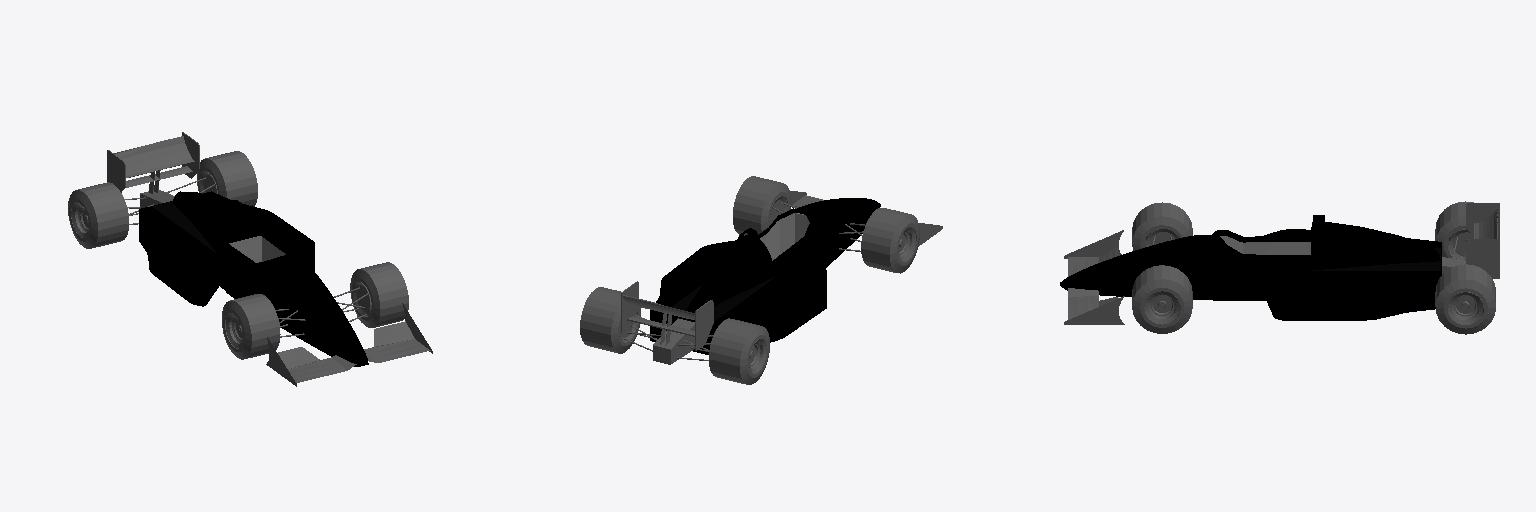
File: my_indy2.obj
3 views of the same model, side by side, from view 1: azimuth 30°, elevation 25°; view 2: azimuth 150°, elevation 25°; view 3: azimuth 270°, elevation 25° (orthographic).
Parts seen in each view (by area): view 1: Spoiler_RR, FrontLow, TireRR, FrontHigh, TireFR, TireFL, Air_Entrnc, TireRL, SpoilFR, SpoilFL, RadRgHole, RadRgTop1 (+5 smaller); view 2: TireRR, Air_Entrnc, TireFR, TireRL, TireFL, Spoiler_RR, FrontLow, RadRgTop1, FrontHigh, Internal1, RadRgBtm1, RadLfTop1 (+7 smaller); view 3: FrontLow, Air_Entrnc, TireRL, TireFL, FrontHigh, RadLfBtm1, Spoiler_RR, RadLfBtm2, TireFR, SpoilFL, RadLfHole, TireRR (+6 smaller).
Boxes of the visible parts, x1,y1,x2,y2 form: Spoiler_RR: [107, 132, 199, 193]; FrontLow: [216, 246, 368, 366]; TireRR: [68, 182, 128, 248]; FrontHigh: [267, 260, 365, 357]; TireFR: [222, 294, 280, 359]; TireFL: [350, 262, 408, 327]; Air_Entrnc: [173, 191, 260, 251]; TireRL: [197, 151, 257, 206]; SpoilFR: [266, 337, 356, 386]; SpoilFL: [364, 303, 432, 362]; RadRgHole: [188, 261, 254, 306]; RadRgTop1: [152, 234, 225, 269]; TireRR: [709, 318, 769, 384]; Air_Entrnc: [687, 235, 774, 312]; TireFR: [861, 208, 919, 273]; TireRL: [580, 287, 640, 353]; TireFL: [733, 176, 790, 235]; Spoiler_RR: [621, 281, 713, 350]; FrontLow: [774, 203, 880, 276]; RadRgTop1: [749, 270, 823, 305]; FrontHigh: [781, 198, 877, 226]; Internal1: [760, 213, 809, 260]; RadRgBtm1: [785, 280, 823, 336]; RadLfTop1: [664, 249, 723, 284]; FrontLow: [1060, 235, 1312, 300]; Air_Entrnc: [1311, 222, 1440, 269]; TireRL: [1435, 264, 1495, 334]; TireFL: [1132, 265, 1192, 333]; FrontHigh: [1066, 235, 1223, 280]; RadLfBtm1: [1292, 289, 1366, 320]; Spoiler_RR: [1466, 203, 1499, 278]; RadLfBtm2: [1367, 278, 1438, 319]; TireFR: [1132, 202, 1192, 250]; SpoilFL: [1064, 288, 1124, 324]; RadLfHole: [1236, 270, 1291, 320]; TireRR: [1435, 201, 1473, 259].
Bounding box in the file's own units: 45.97 × 20.95 × 106.